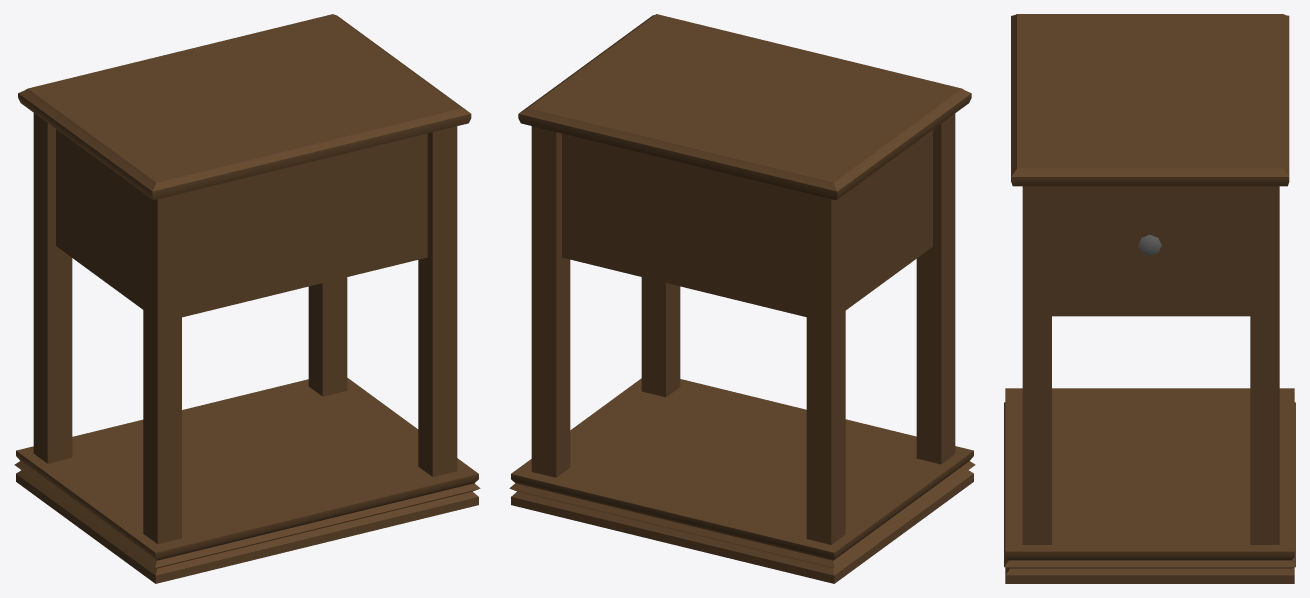
File: endtable.fbx
3 views of the same model, side by side, from view 1: azimuth 30°, elevation 25°; view 2: azimuth 150°, elevation 25°; view 3: azimuth 270°, elevation 25° (orthographic). The views are drawn at different scales.
Parts seen in each view (by area): view 1: Cube; view 2: Cube; view 3: Cube.
Part boxes in pixels (box(x1,y1,x2,y2)): Cube: box(14, 14, 480, 583); Cube: box(509, 14, 975, 583); Cube: box(1004, 14, 1295, 583).
Size of the model in its own units: 269 by 313 by 202.
